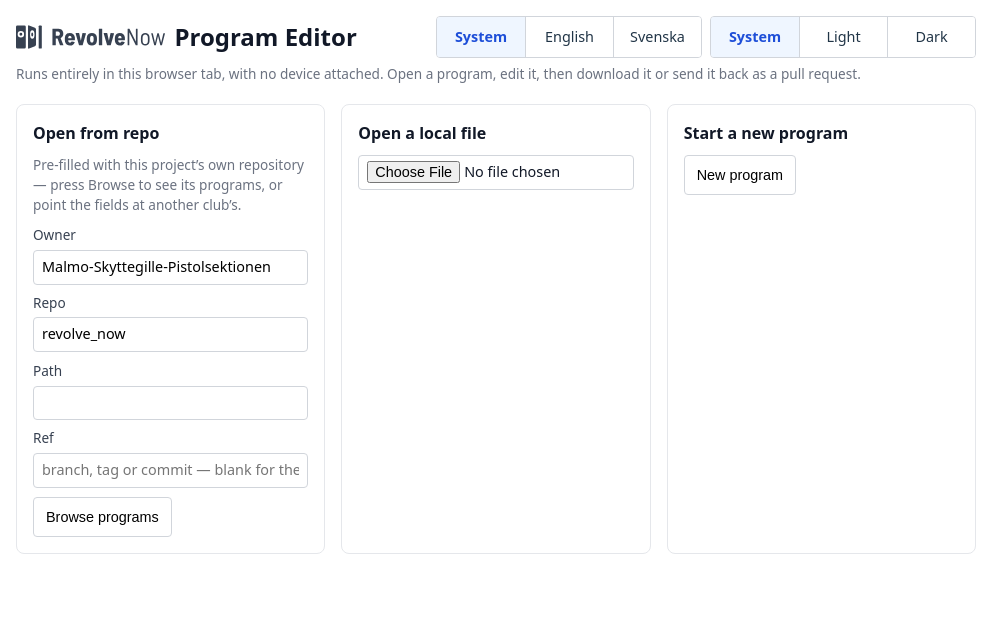
Test: the picker › keeps the filename when a title cannot be read, and lists anyway
expect the element with test id "picker-new" is shown: met, box [667,104,976,554]
Click the button with test id "picker-repo-browse": click(102, 517) [33,497,172,537]
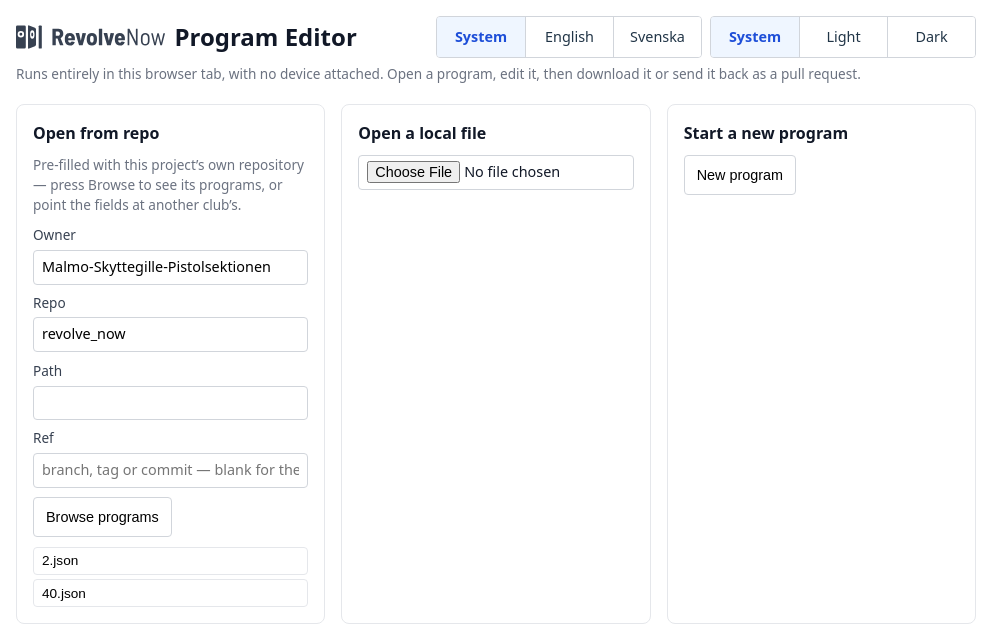
expect the button with test id "picker-repo-file-2.json" reads "2.json": met, box [33,547,308,575]
